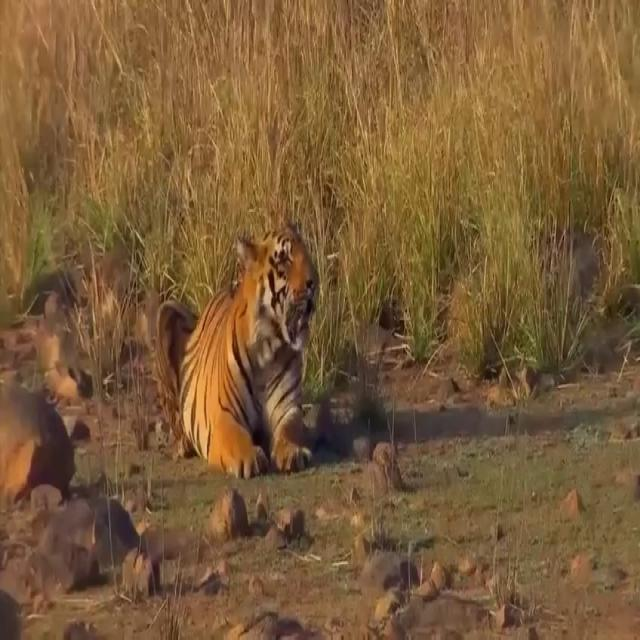tiger: (154, 223, 322, 480)
